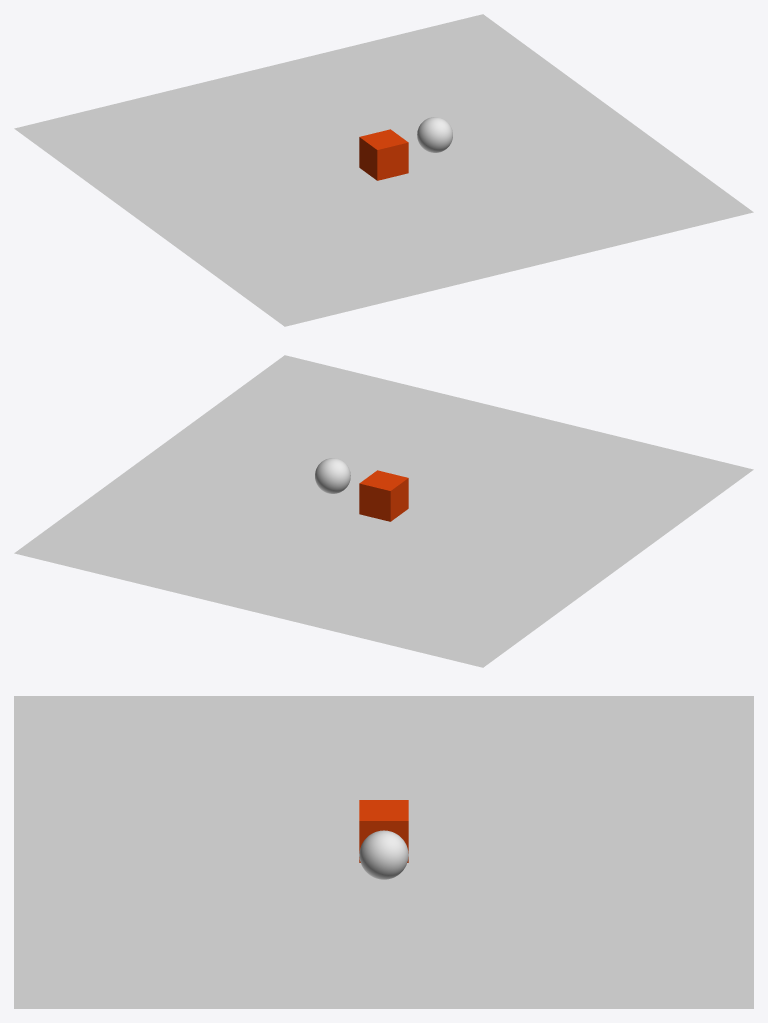
Rendered from testScene.gltf.
3 views of the same model, one above another, from view 1: azimuth 30°, elevation 25°; view 2: azimuth 150°, elevation 25°; view 3: azimuth 270°, elevation 25° (orthographic). The views are drawn at different scales.
Visible parts, largest first — view 1: Cube, Sphere; view 2: Cube, Sphere; view 3: Cube, Sphere.
Boxes of the visible parts, <box> form: Cube: <box>14,14,753,326</box>; Sphere: <box>417,117,452,152</box>; Cube: <box>14,355,753,667</box>; Sphere: <box>315,458,350,493</box>; Cube: <box>14,696,753,1008</box>; Sphere: <box>359,830,408,879</box>.
Bounding box in the file's own units: 30 × 2.53 × 30.
